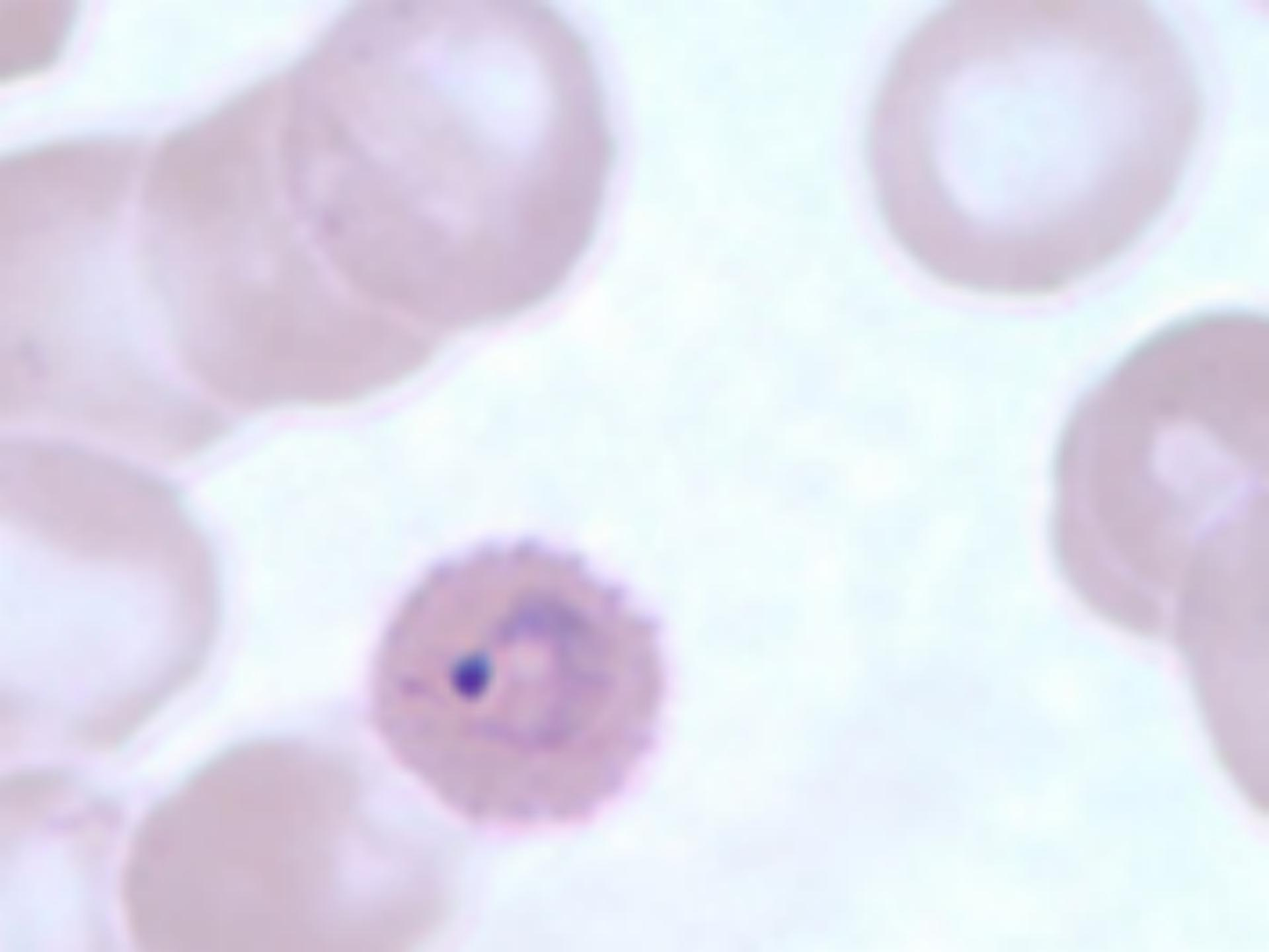Infected: (599, 111, 889, 417)
Uninfected: (650, 620, 969, 952), (828, 530, 1127, 874), (68, 653, 391, 952), (1002, 475, 1269, 809), (1046, 173, 1269, 507), (0, 300, 209, 652), (804, 0, 1141, 201)
